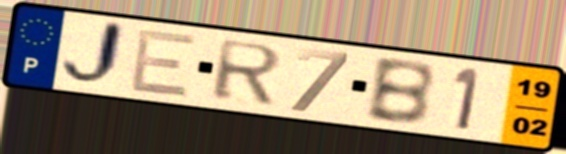1: (451, 66, 481, 134)
7: (288, 45, 352, 114)
B: (362, 57, 438, 128)
E: (126, 27, 200, 100)
J: (57, 18, 129, 90)
R: (209, 37, 287, 107)
